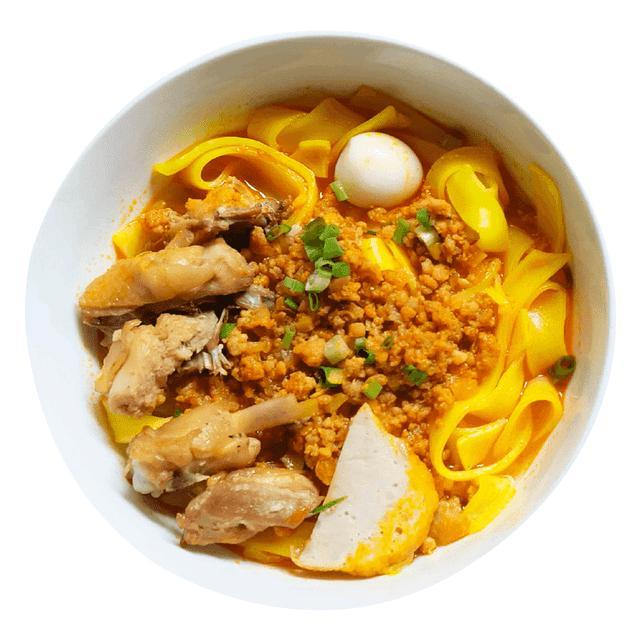mi: (341, 213, 578, 559), (142, 77, 518, 262)
thit bam: (172, 192, 505, 466)
thit ga: (116, 386, 327, 502), (77, 237, 258, 356), (91, 303, 238, 423), (169, 457, 324, 552), (138, 168, 289, 259)
trung: (327, 126, 428, 213)
